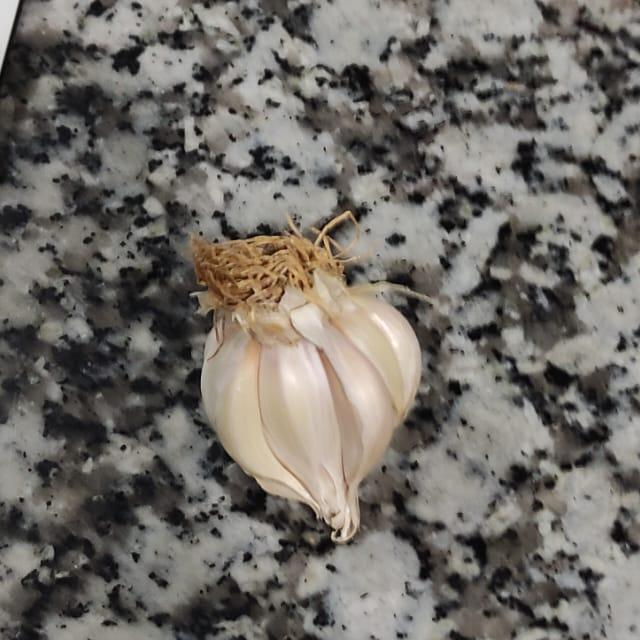garlic: (150, 193, 470, 563)
